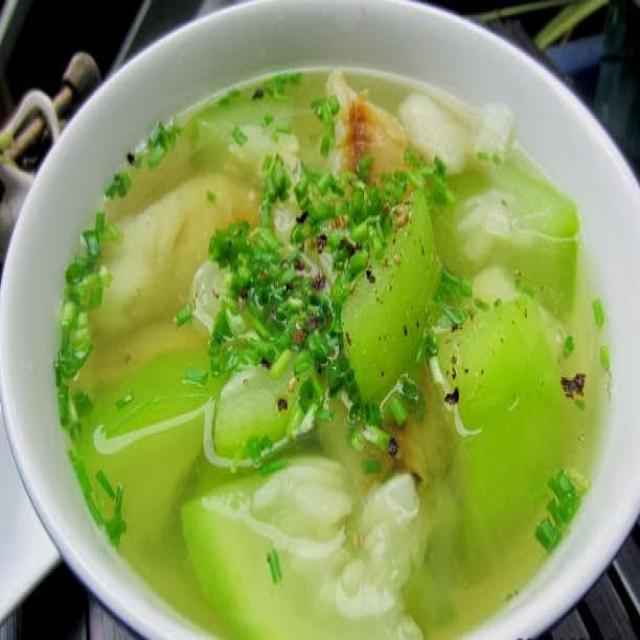canh bau: (55, 63, 608, 638)
